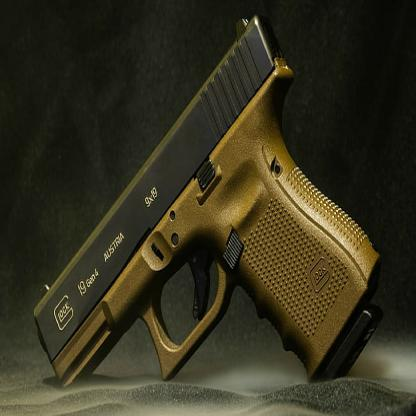handgun: (28, 16, 396, 396)
